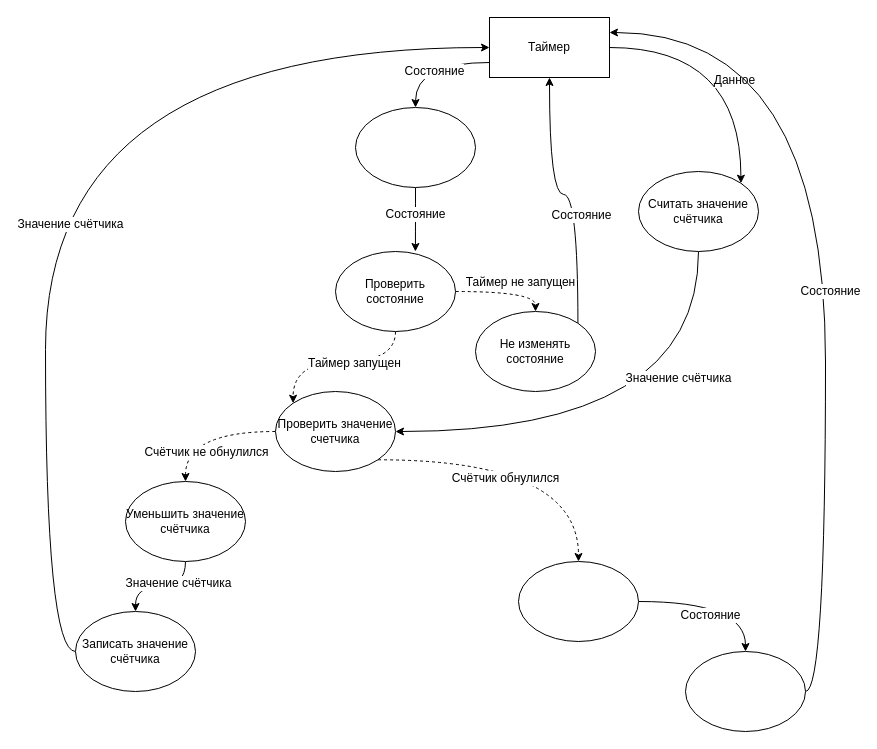
This 877x749 diagram has some shape labels left out. The centre of each missing label's shape, as x and y in pixels:
Записать состояние: the point at 745,691
Изменить состояние: the point at 578,601
Считать состояние: the point at 415,147
